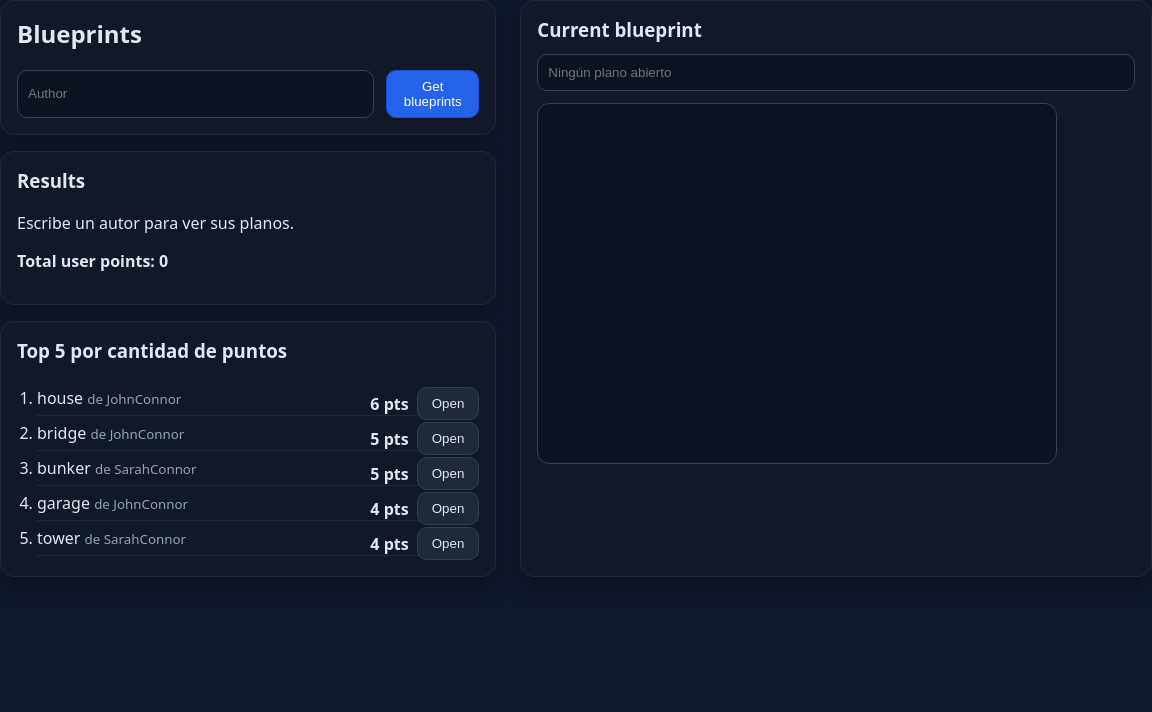
Test: Abrir un plano › al dar Open muestra el nombre del plano en el campo de texto
Expected: the text "6 pts" is shown, [370,393,409,415]
Type "JohnConnor" into the field with placeholder "Author". click: {"x": 196, "y": 94}
box: [17,70,374,118]
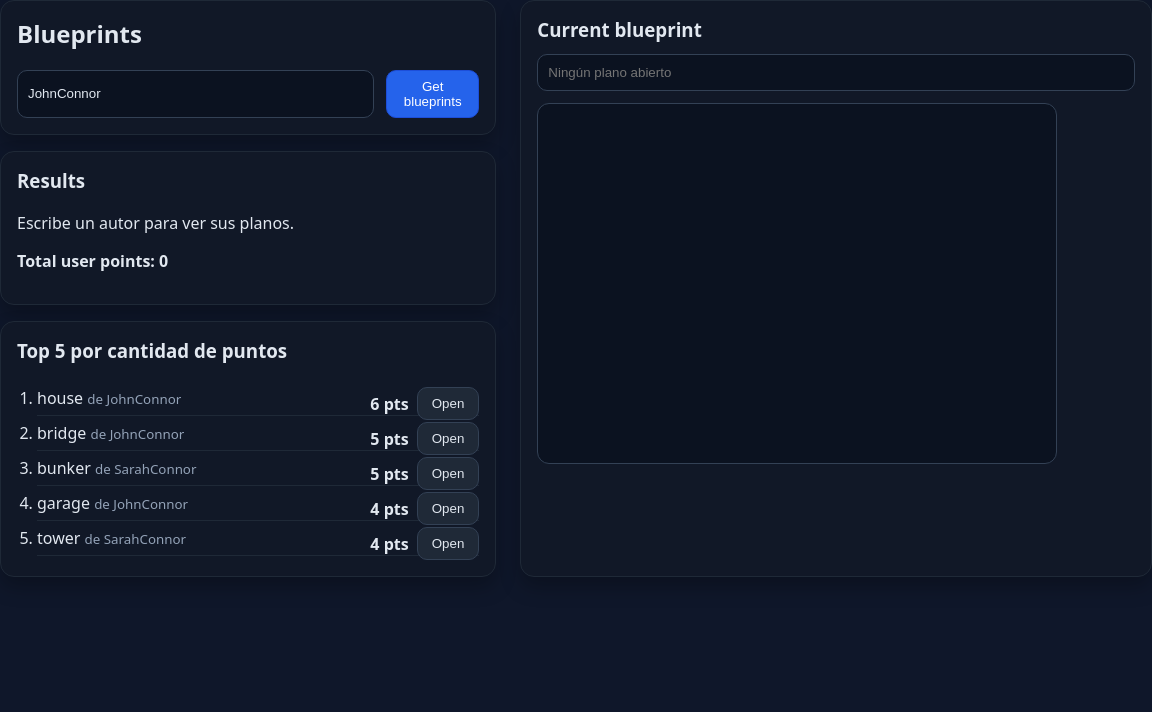
Click the button "Get blueprints". click: {"x": 433, "y": 94}
box: [386,70,479,118]
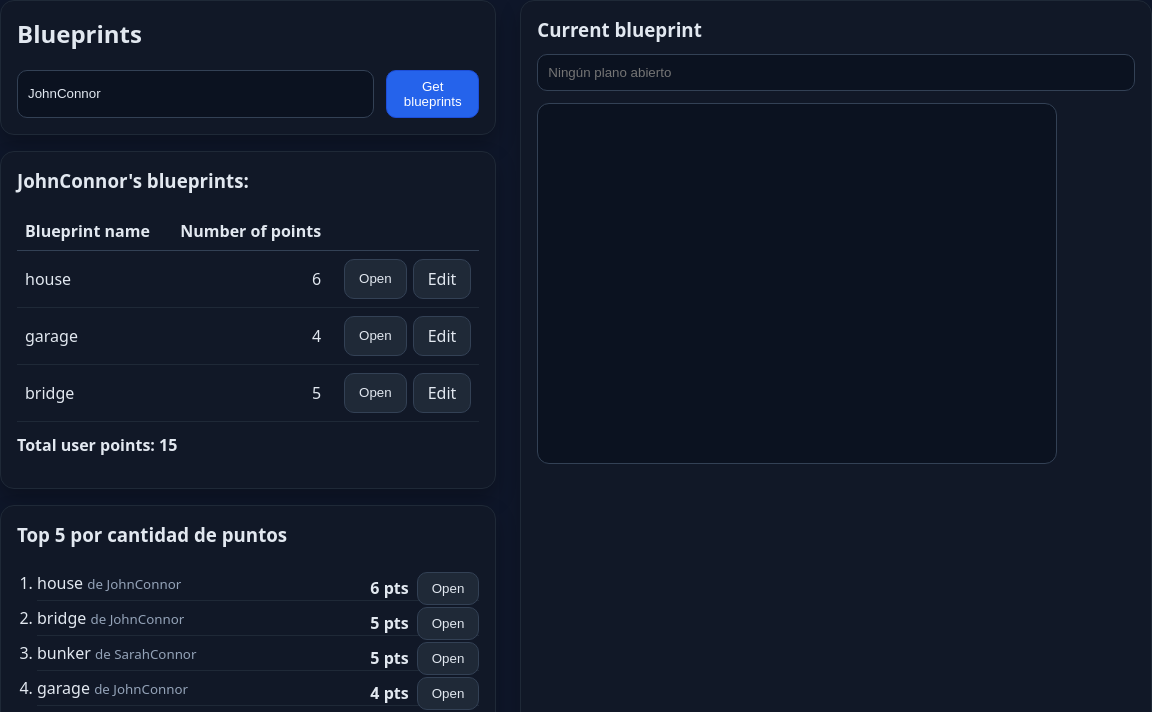
Click the 1st button "Open". click: {"x": 375, "y": 279}
box: [344,259,407,299]
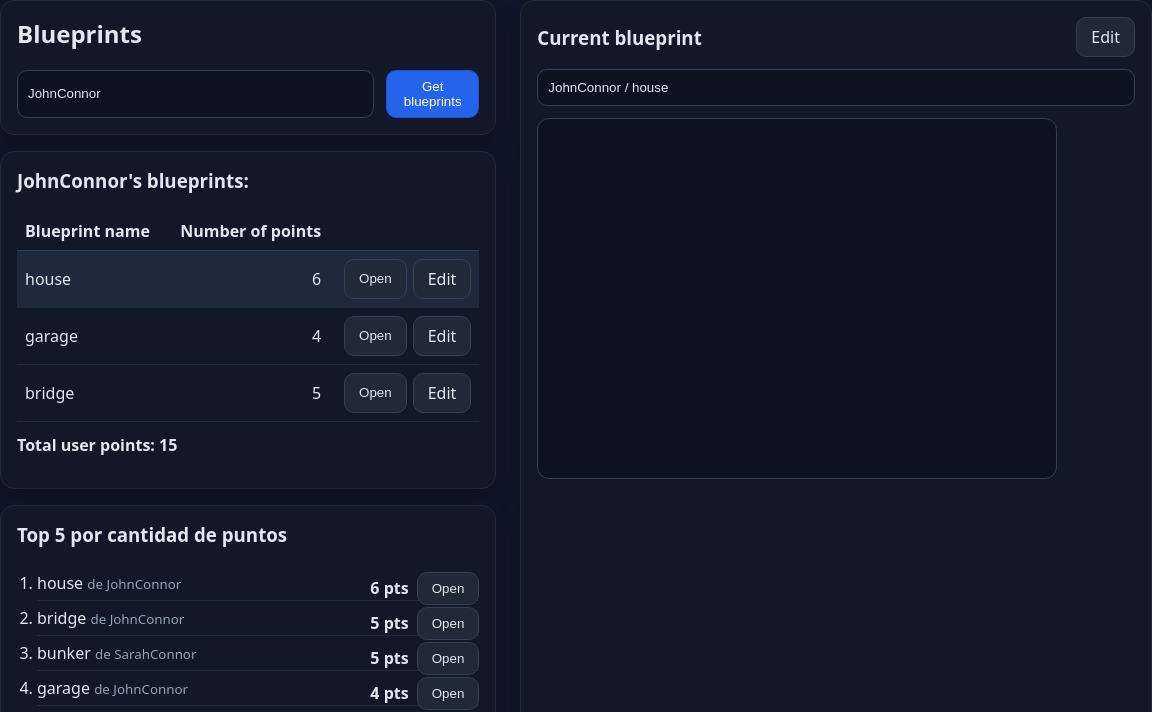
Expected: the field named "Current blueprint" holds "JohnConnor / house", [537,69,1135,106]
